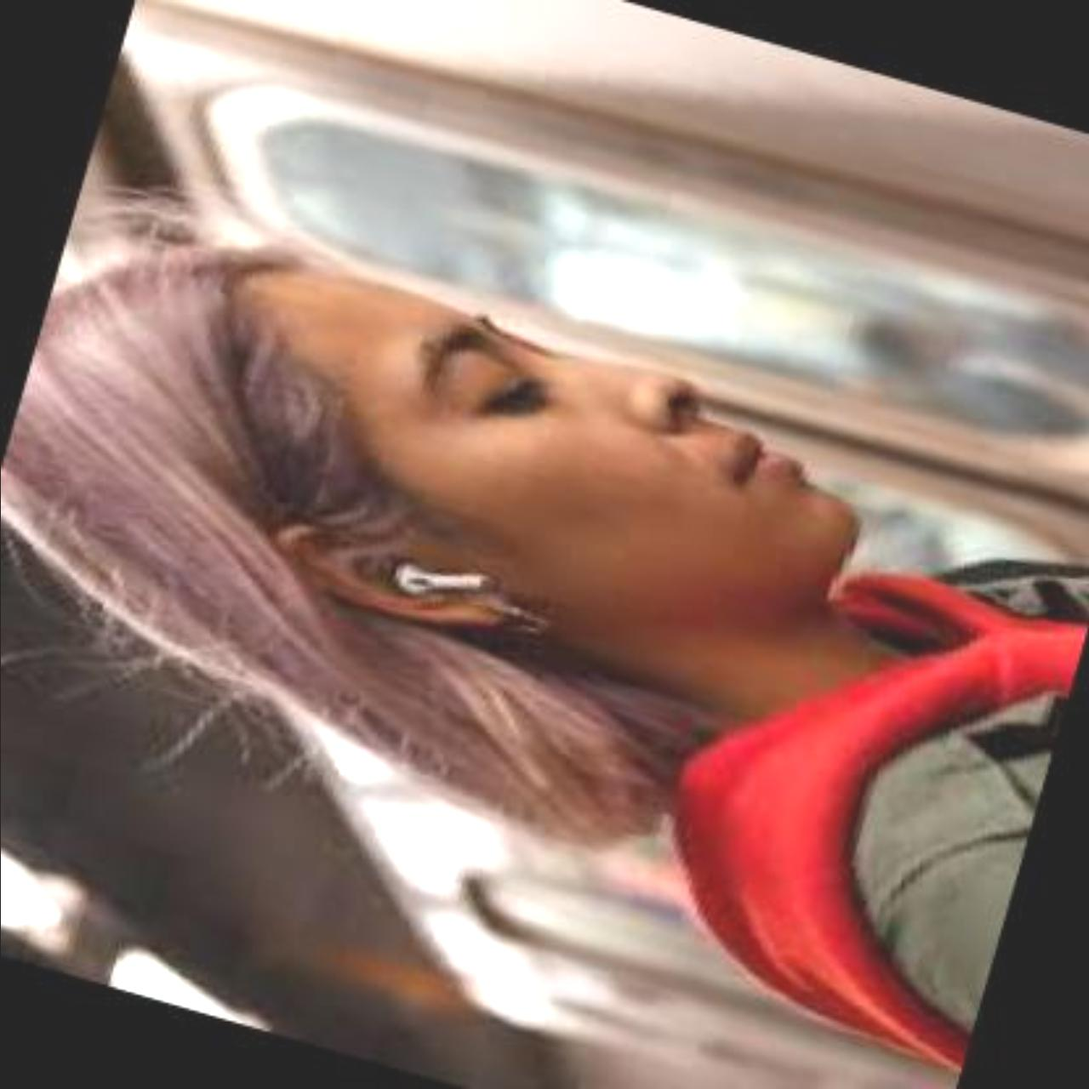Airpods_Units: (389, 544, 496, 618)
